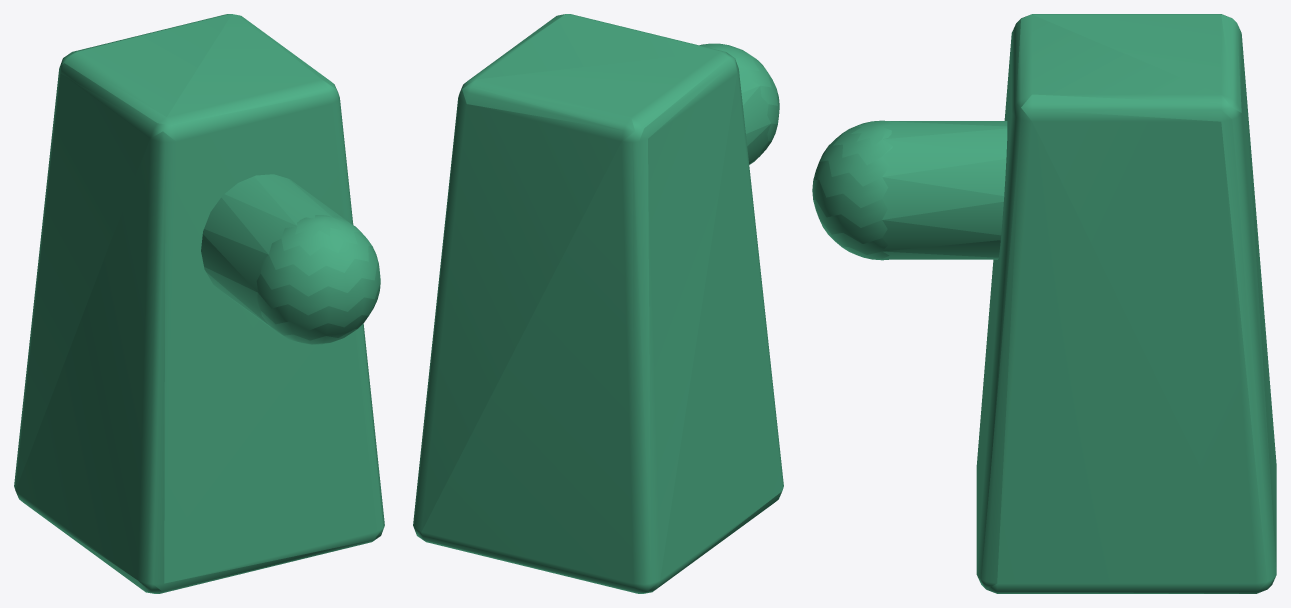
File: Abstract_nose.fbx
The picture shows the model from 3 angles, left to right: view 1: azimuth 30°, elevation 25°; view 2: azimuth 150°, elevation 25°; view 3: azimuth 270°, elevation 25°; orthographic projection. The views are drawn at different scales.
Visible parts, largest first — view 1: pCylinder2; view 2: pCylinder2; view 3: pCylinder2.
Boxes of the visible parts, left/top/right/bottom form: pCylinder2: left=14, top=14, right=384, bottom=593; pCylinder2: left=413, top=14, right=783, bottom=593; pCylinder2: left=812, top=14, right=1276, bottom=593.
Size of the model in its own units: 4.29 by 7.65 by 6.65.
